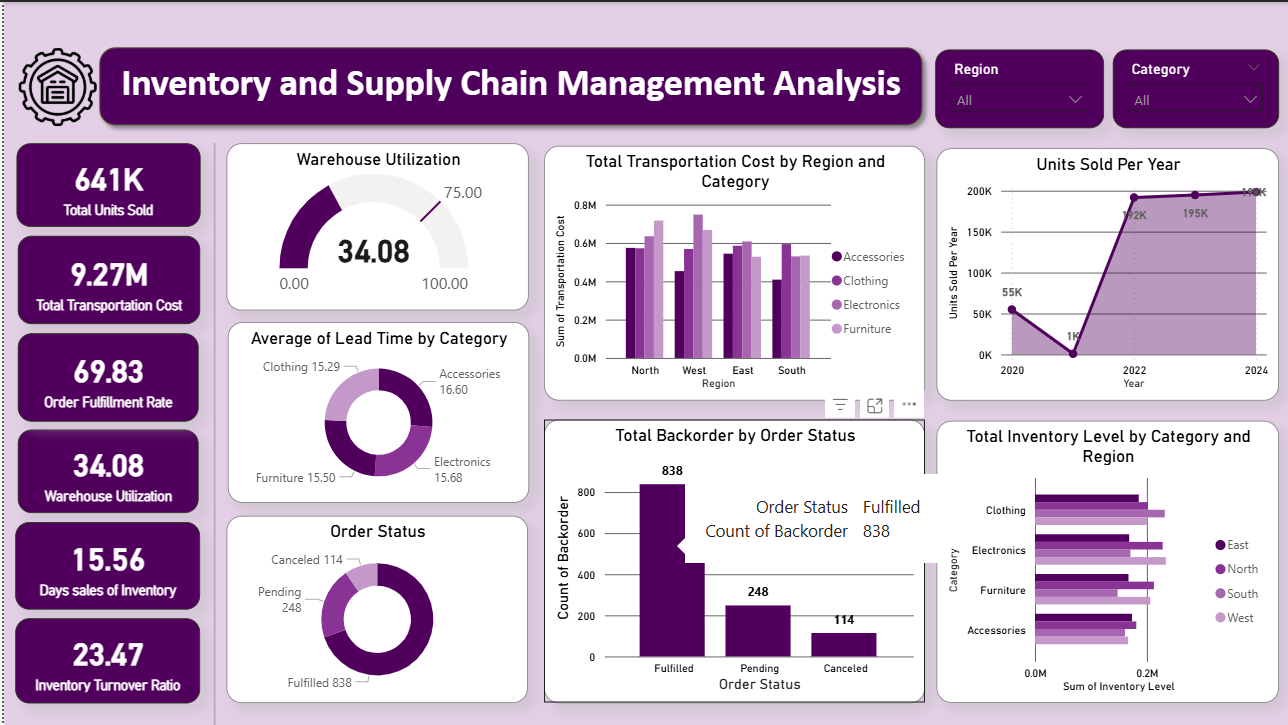

The page's visual inventory and layout, read from the dashboard file:
{"tool":"powerbi","page":{"name":"Page 1","canvas":[1280,720],"ordinal":0},"visuals":[{"type":"shape","box":[85.8,36.1,837.2,95.8],"z":0},{"type":"textbox","box":[104.5,52.2,799.9,64.7],"z":1000},{"type":"shape","box":[202.8,140.3,13.7,579.7],"z":2000},{"type":"card","fields":{"Values":["Inventory and Supply Chain Dataset.Warehouse Utilization"]},"box":[13.7,425.4,180.4,83.3],"z":3000},{"type":"card","fields":{"Values":["Inventory and Supply Chain Dataset.Days sales of Inventory"]},"box":[11.2,517.5,184.1,87.1],"z":4000},{"type":"card","fields":{"Values":["Inventory and Supply Chain Dataset.Inventory Turnover Ratio"]},"box":[11.2,613.3,184.1,84.6],"z":5000},{"type":"slicer","fields":{"Values":["Inventory and Supply Chain Dataset.Region"]},"box":[926.7,47.3,167.9,78.4],"z":6000},{"type":"slicer","fields":{"Values":["Inventory and Supply Chain Dataset.Category"]},"box":[1103.4,47.3,165.4,78.4],"z":7000},{"type":"gauge","fields":{"Y":["Inventory and Supply Chain Dataset.Warehouse Utilization"]},"box":[221.4,140.6,301,166.7],"z":8000},{"type":"clusteredColumnChart","title":"Total Transportation Cost by Region and Category","fields":{"Y":["Sum(Inventory and Supply Chain Dataset.Transportation Cost)"],"Category":["Inventory and Supply Chain Dataset.Region"],"Series":["Inventory and Supply Chain Dataset.Category"]},"box":[537.4,143.1,379.4,253.8],"z":9000},{"type":"lineChart","title":"Units Sold Per Year ","fields":{"Y":["Sum(Inventory and Supply Chain Dataset.Units Sold)"],"Category":["Inventory and Supply Chain Dataset.Date.Variation.Date Hierarchy.Year"]},"box":[928,145.5,340.8,251.3],"z":10000},{"type":"donutChart","fields":{"Y":["Avg(Inventory and Supply Chain Dataset.Lead Time)"],"Category":["Inventory and Supply Chain Dataset.Category"]},"box":[222.7,318.5,299.8,180.4],"z":11000},{"type":"columnChart","title":"Total Backorder by Order Status","fields":{"Y":["CountNonNull(Inventory and Supply Chain Dataset.Backorder)"],"Category":["Inventory and Supply Chain Dataset.Order Status"]},"box":[537.4,415.5,379.4,282.4],"z":12000},{"type":"clusteredBarChart","title":"Total Inventory Level by Category and Region","fields":{"Y":["Sum(Inventory and Supply Chain Dataset.Inventory Level)"],"Category":["Inventory and Supply Chain Dataset.Category"],"Series":["Inventory and Supply Chain Dataset.Region"]},"box":[928,416.7,340.8,281.1],"z":13000},{"type":"image","box":[7.5,41.1,92.1,87.1],"z":14000},{"type":"card","fields":{"Values":["Sum(Inventory and Supply Chain Dataset.Units Sold)"]},"box":[12.4,140.6,182.9,83.3],"z":15000},{"type":"card","fields":{"Values":["Sum(Inventory and Supply Chain Dataset.Transportation Cost)"]},"box":[13.7,232.6,181.6,88.3],"z":16000},{"type":"donutChart","title":"Order Status","fields":{"Category":["Inventory and Supply Chain Dataset.Order Status"],"Y":["CountNonNull(Inventory and Supply Chain Dataset.Order Status)"]},"box":[221.4,511.3,299.8,186.6],"z":17000},{"type":"card","fields":{"Values":["Inventory and Supply Chain Dataset.Fulfillment Rate"]},"box":[13.7,329.6,180.4,88.3],"z":18000}]}

Visuals, with their boxes in screenshot pixels (x1, y1, x2, y2), scaled from the page's 1280x720 canvas onto the 1288x725 screenshot:
shape: x1=86, y1=36, x2=929, y2=133
textbox: x1=105, y1=53, x2=910, y2=118
shape: x1=204, y1=141, x2=218, y2=724
card - Inventory and Supply Chain Dataset.Warehouse Utilization: x1=14, y1=428, x2=195, y2=512
card - Inventory and Supply Chain Dataset.Days sales of Inventory: x1=11, y1=521, x2=197, y2=609
card - Inventory and Supply Chain Dataset.Inventory Turnover Ratio: x1=11, y1=618, x2=197, y2=703
slicer - Inventory and Supply Chain Dataset.Region: x1=932, y1=48, x2=1101, y2=127
slicer - Inventory and Supply Chain Dataset.Category: x1=1110, y1=48, x2=1277, y2=127
gauge - Inventory and Supply Chain Dataset.Warehouse Utilization: x1=223, y1=142, x2=526, y2=309
"Total Transportation Cost by Region and Category" clusteredColumnChart: x1=541, y1=144, x2=923, y2=400
"Units Sold Per Year " lineChart: x1=934, y1=147, x2=1277, y2=400
donutChart - Avg(Inventory and Supply Chain Dataset.Lead Time) x Inventory and Supply Chain Dataset.Category: x1=224, y1=321, x2=526, y2=502
"Total Backorder by Order Status" columnChart: x1=541, y1=418, x2=923, y2=703
"Total Inventory Level by Category and Region" clusteredBarChart: x1=934, y1=420, x2=1277, y2=703
image: x1=8, y1=41, x2=100, y2=129
card - Sum(Inventory and Supply Chain Dataset.Units Sold): x1=12, y1=142, x2=197, y2=225
card - Sum(Inventory and Supply Chain Dataset.Transportation Cost): x1=14, y1=234, x2=197, y2=323
"Order Status" donutChart: x1=223, y1=515, x2=524, y2=703
card - Inventory and Supply Chain Dataset.Fulfillment Rate: x1=14, y1=332, x2=195, y2=421
